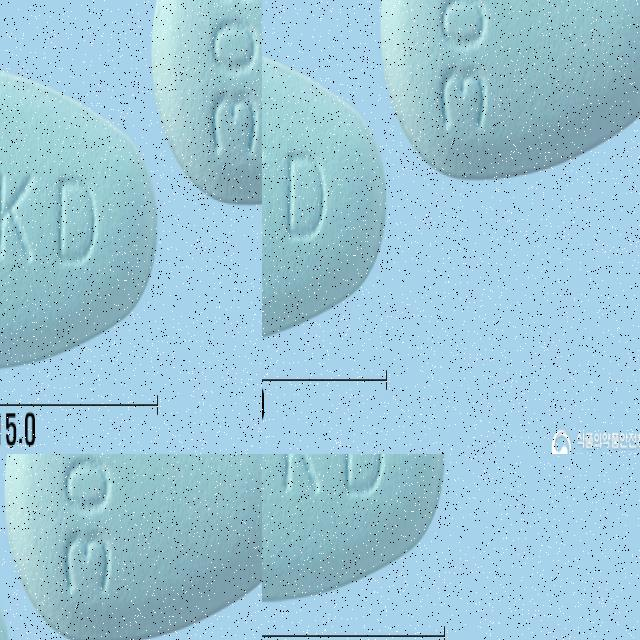Famvir: (0, 170, 262, 454)
Lefoxin: (384, 0, 629, 348), (262, 0, 348, 347)
Retos Tab: (0, 454, 262, 590)
Teva Azathioprine Tab: (262, 454, 444, 603)
